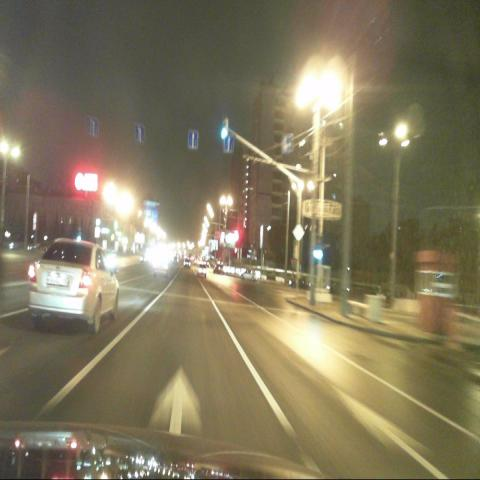5_15_2: (188, 129, 198, 150)
